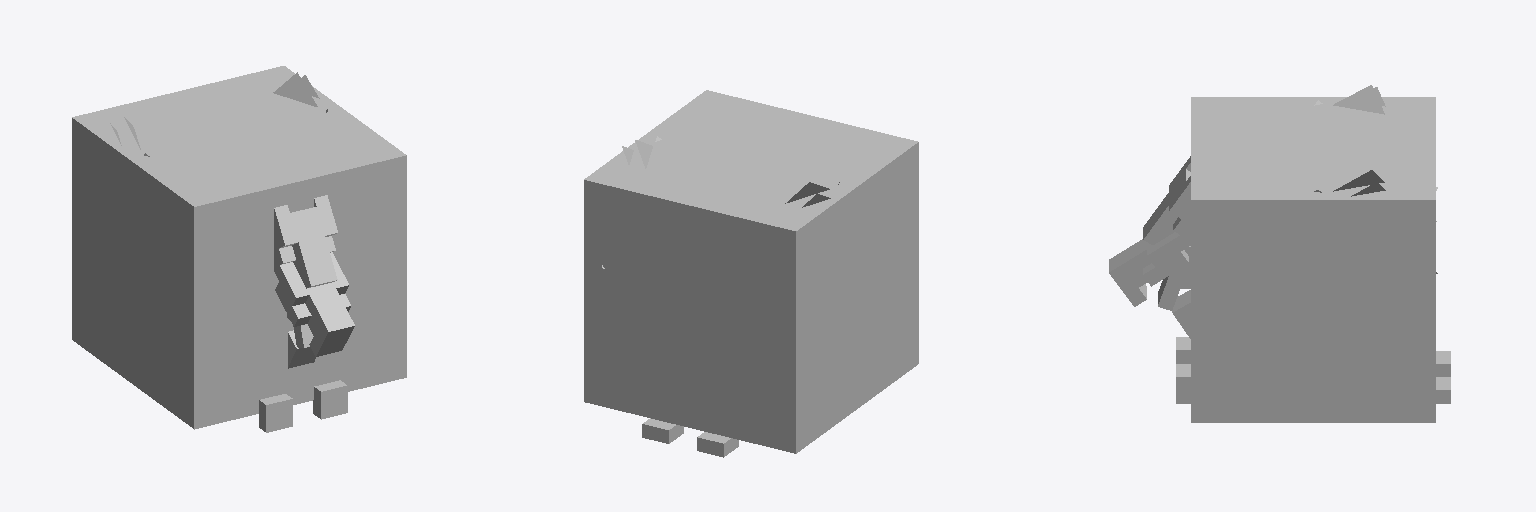
Rendered from gargoyle_all.obj.
3 views of the same model, side by side, from view 1: azimuth 30°, elevation 25°; view 2: azimuth 150°, elevation 25°; view 3: azimuth 270°, elevation 25° (orthographic).
Visible parts, largest first — view 1: cube, gargoyleFloor, gargoyleCeiling, gargoyleWall; view 2: cube, gargoyleWall; view 3: cube, gargoyleFloor, gargoyleWall, gargoyleCeiling.
Part boxes in pixels (bbox=[...]): cube: bbox=[72, 66, 406, 429]; gargoyleFloor: bbox=[144, 109, 354, 432]; gargoyleCeiling: bbox=[274, 195, 337, 288]; gargoyleWall: bbox=[110, 72, 319, 368]; cube: bbox=[584, 90, 918, 453]; gargoyleWall: bbox=[622, 140, 830, 457]; cube: bbox=[1191, 97, 1435, 422]; gargoyleFloor: bbox=[1109, 100, 1437, 403]; gargoyleWall: bbox=[1172, 85, 1450, 403]; gargoyleCeiling: bbox=[1143, 156, 1190, 253].
Size of the model in its own units: 1 by 1.16 by 1.4.